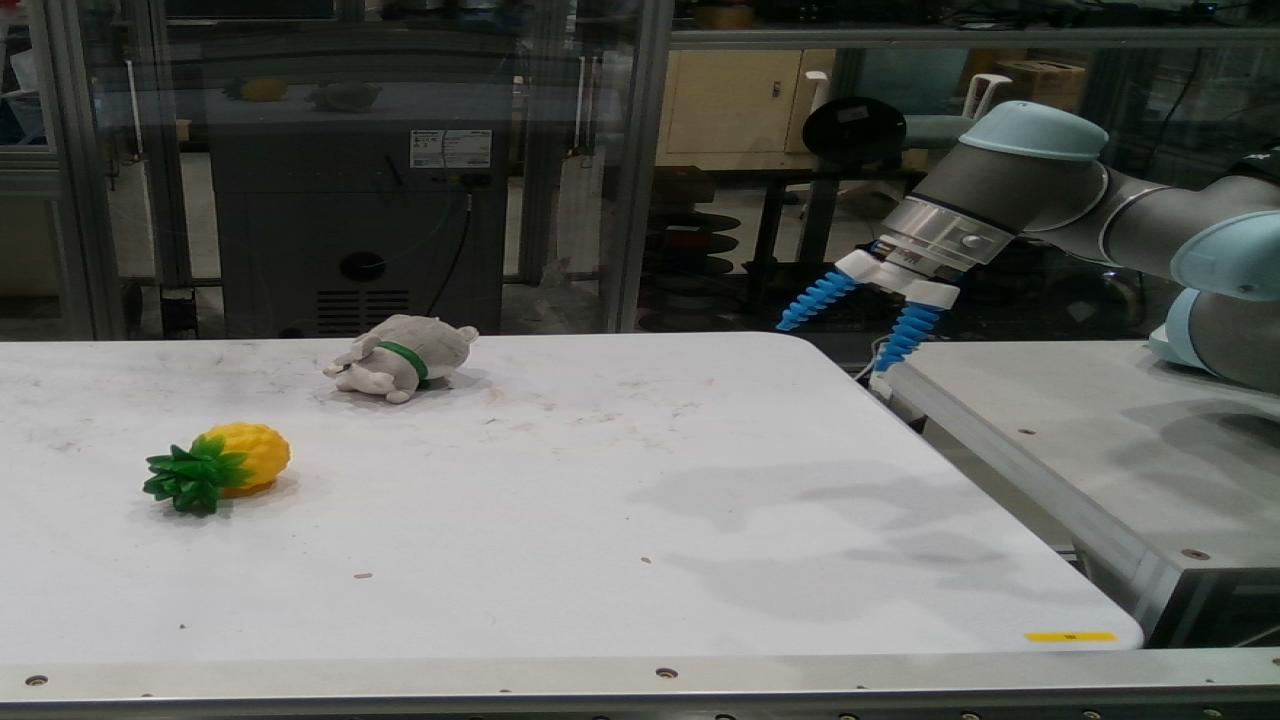UR5: (842, 102, 1278, 391)
gripper_left: (775, 272, 860, 331)
gripper_right: (878, 303, 936, 370)
target: (324, 316, 476, 404), (146, 424, 286, 514)
